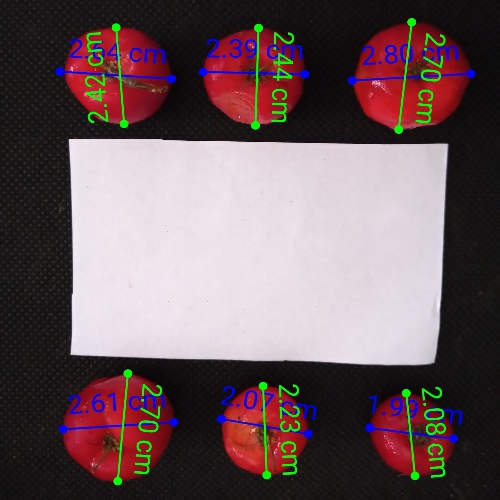acerola: (352, 22, 471, 131), (64, 375, 174, 482), (65, 29, 171, 124), (204, 28, 305, 124), (219, 386, 308, 476), (368, 394, 455, 477)
cartao: (69, 140, 436, 357)
